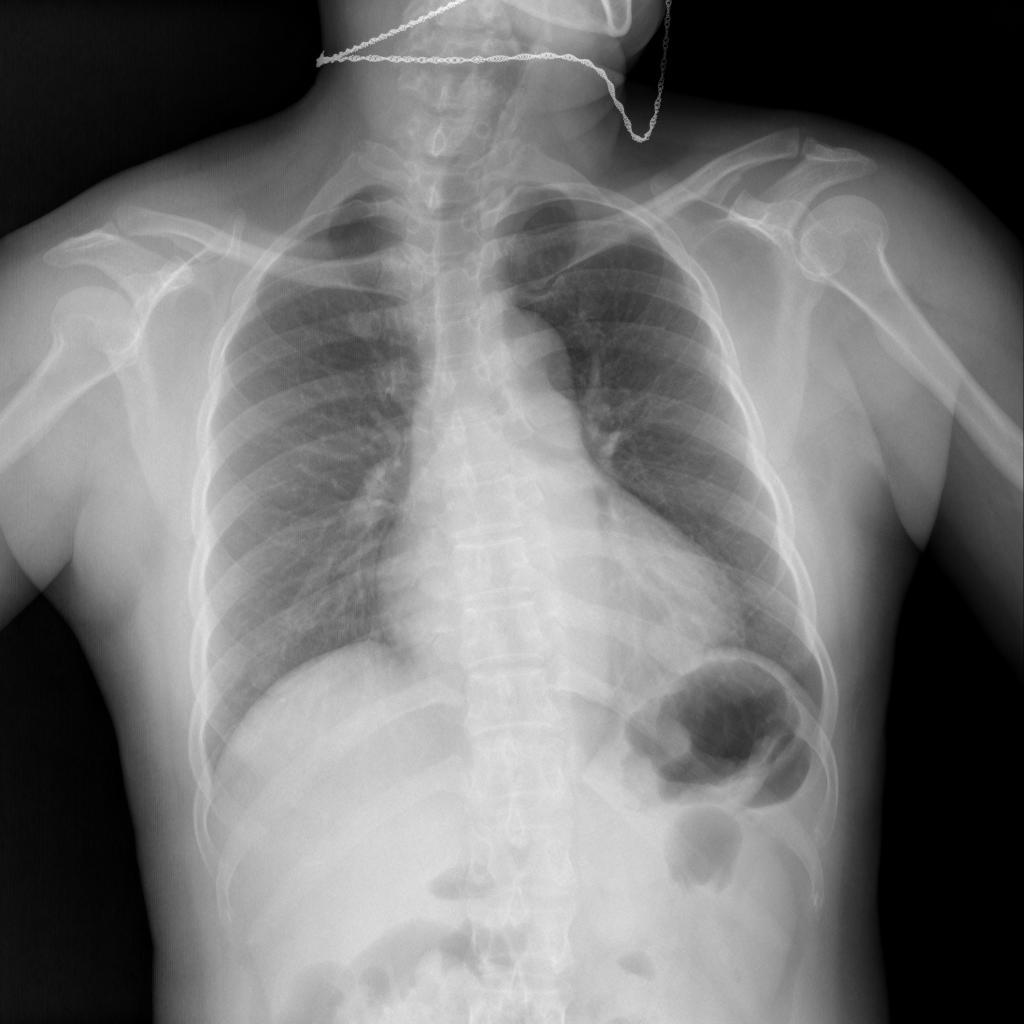Nodule: (630, 598, 725, 685)
